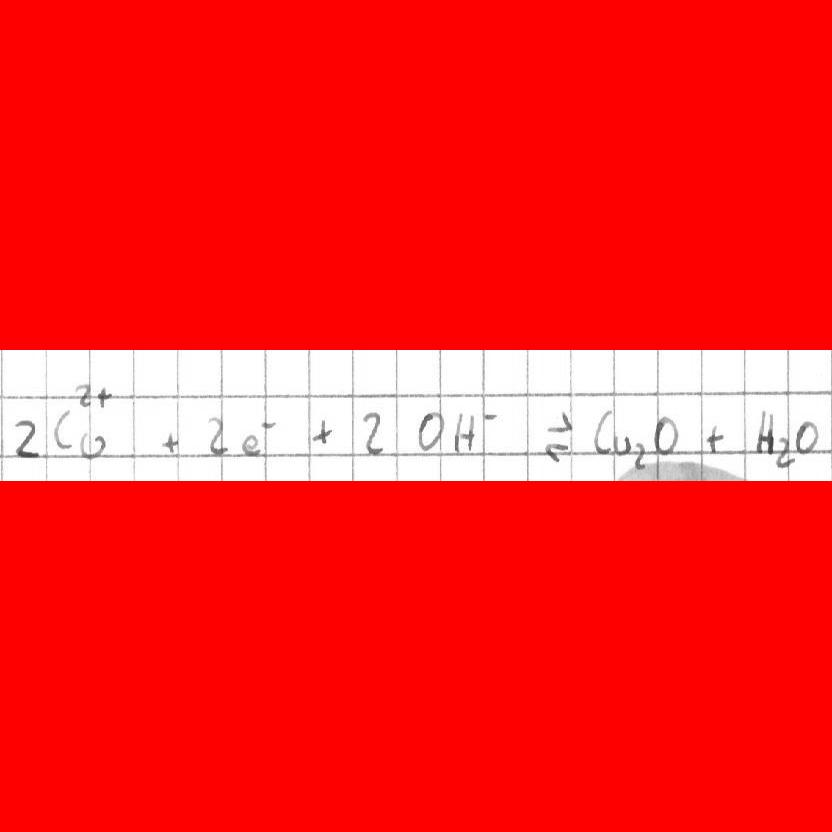Char: (542, 410, 576, 464), (415, 408, 444, 451), (13, 416, 41, 459), (452, 410, 477, 455), (360, 411, 384, 457), (592, 409, 614, 456), (754, 407, 774, 454), (205, 417, 228, 457), (653, 416, 677, 454), (794, 418, 817, 455), (52, 407, 72, 448), (79, 429, 104, 458), (310, 415, 334, 445), (775, 433, 794, 470), (704, 424, 726, 453), (159, 429, 181, 454), (632, 440, 648, 472), (241, 433, 262, 457), (75, 383, 95, 408), (612, 433, 631, 457), (96, 386, 111, 408), (482, 409, 499, 427), (259, 420, 276, 430)
